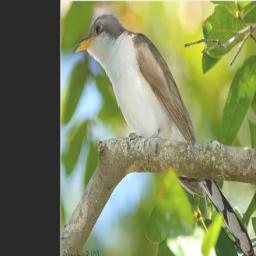Cuckoo: (68, 9, 256, 256)
